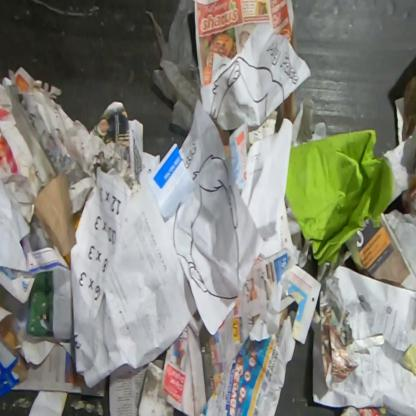cardboard: (285, 130, 394, 266)
soft_plastic: (145, 0, 202, 133)
